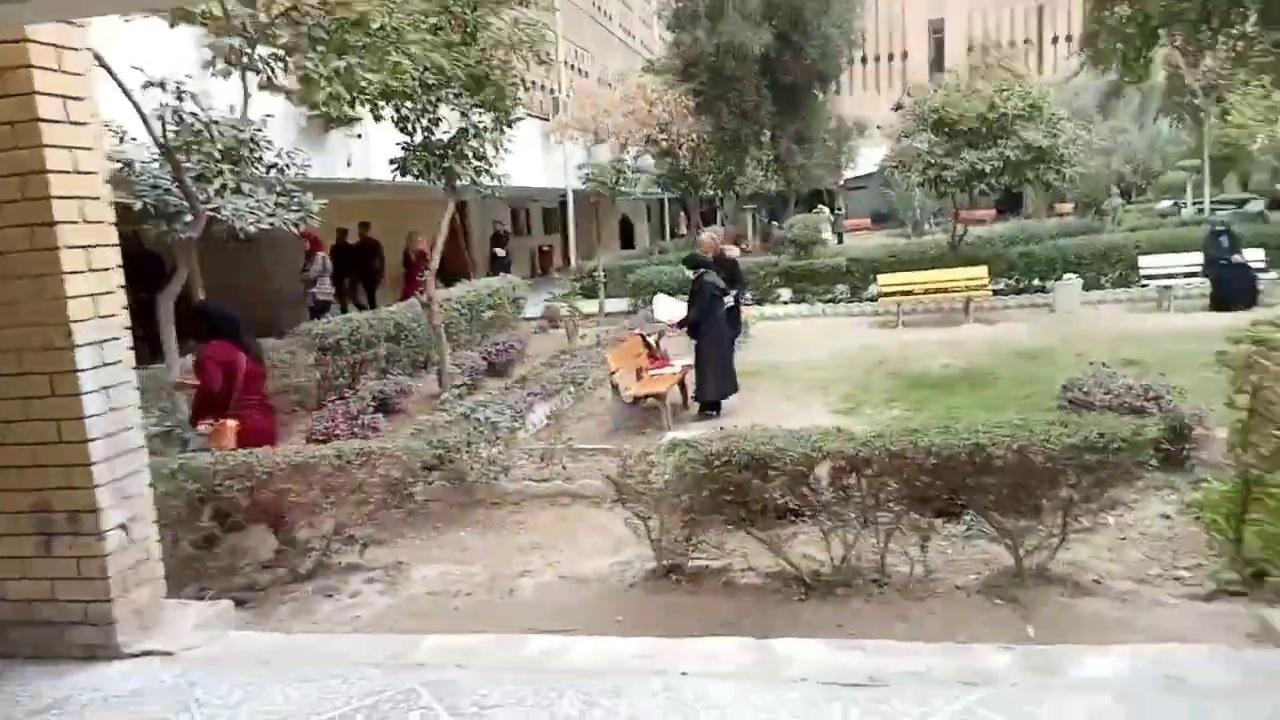person: (178, 300, 278, 449), (675, 251, 741, 417), (350, 220, 384, 310), (398, 229, 432, 303), (328, 226, 355, 314), (488, 219, 511, 276), (831, 205, 845, 244)
tree: (602, 403, 1192, 600), (298, 0, 557, 390), (85, 45, 327, 380), (638, 0, 867, 239), (1084, 0, 1278, 218), (384, 85, 521, 389), (878, 62, 1092, 243), (546, 68, 740, 244), (1190, 306, 1279, 593)
